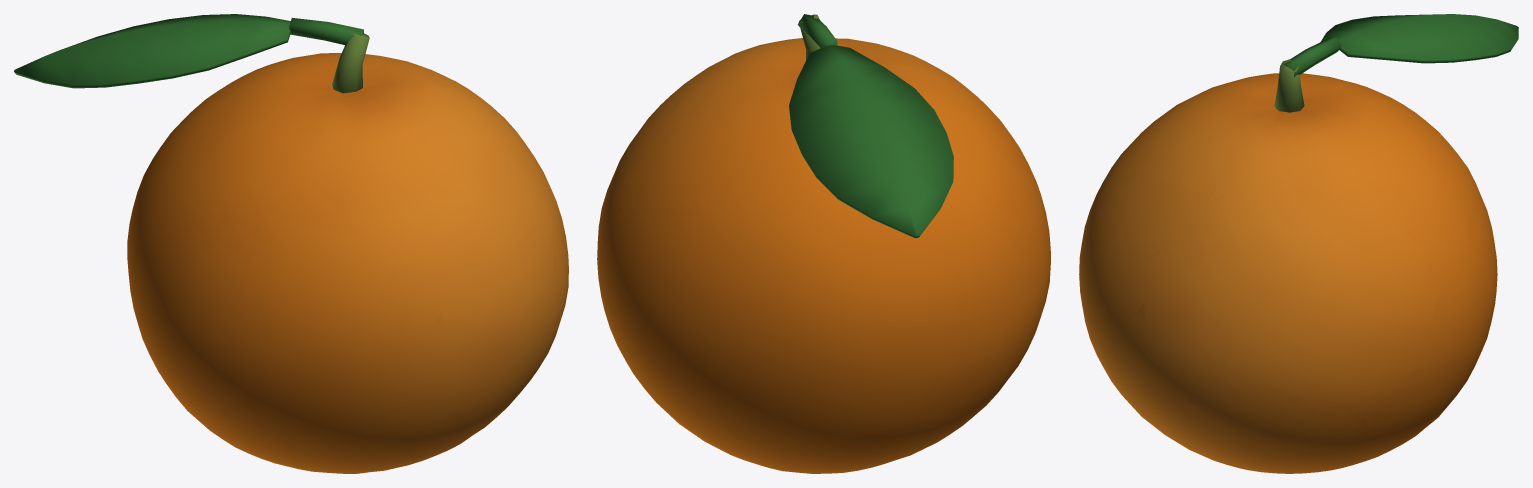
The model's file is orange_held.glb.
3 renders of one model, left to right at view 1: azimuth 30°, elevation 25°; view 2: azimuth 150°, elevation 25°; view 3: azimuth 270°, elevation 25°, orthographic. The views are drawn at different scales.
Visible parts, largest first — view 1: eat_0_Body, eat_1_Body, eat_0_Leaf, eat_2_Body, eat_0_Stalk; view 2: eat_0_Body, eat_0_Leaf, eat_1_Body; view 3: eat_0_Body, eat_1_Body, eat_0_Leaf, eat_2_Body, eat_0_Stalk.
Part boxes in pixels (x1,y1,x2,y2): eat_0_Body: [127, 53, 568, 473]; eat_1_Body: [128, 61, 564, 473]; eat_0_Leaf: [14, 14, 363, 88]; eat_2_Body: [172, 78, 500, 471]; eat_0_Stalk: [332, 32, 369, 93]; eat_0_Body: [597, 38, 1050, 473]; eat_0_Leaf: [789, 14, 953, 238]; eat_1_Body: [601, 38, 1050, 473]; eat_0_Body: [1079, 73, 1497, 473]; eat_1_Body: [1079, 73, 1495, 473]; eat_0_Leaf: [1284, 14, 1518, 76]; eat_2_Body: [1081, 88, 1447, 456]; eat_0_Stalk: [1274, 59, 1304, 112].
Bounding box in the file's own units: 0.0845 × 0.0833 × 0.0836.
